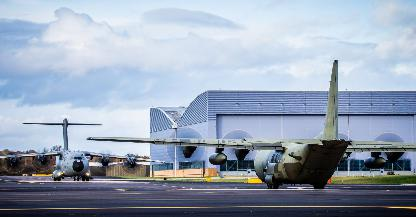A400M: (1, 118, 166, 181)
Be200: (86, 59, 414, 188)
